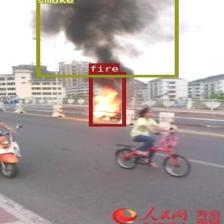fire: (89, 72, 125, 126)
smoke: (35, 0, 177, 77)
